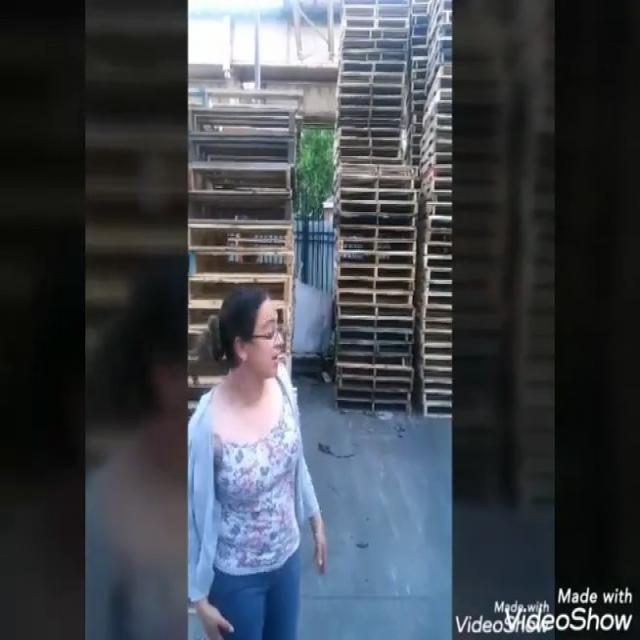Palette: (332, 0, 419, 421), (186, 86, 302, 322), (412, 0, 451, 429)
